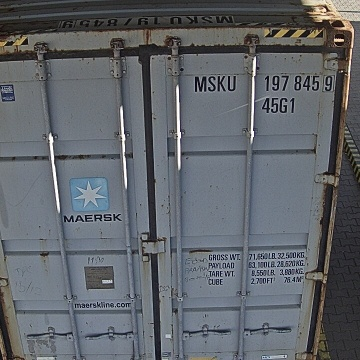serial_id: (195, 74, 334, 91)
